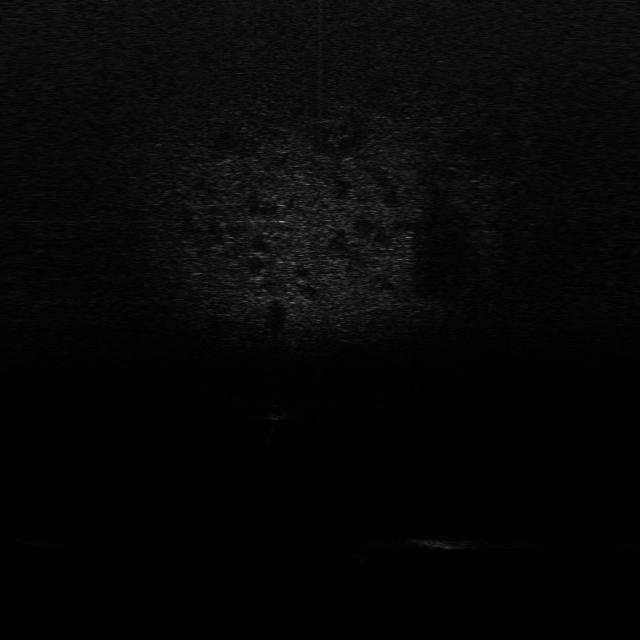ball: (262, 399, 292, 422)
metal bucket: (404, 529, 490, 555)
